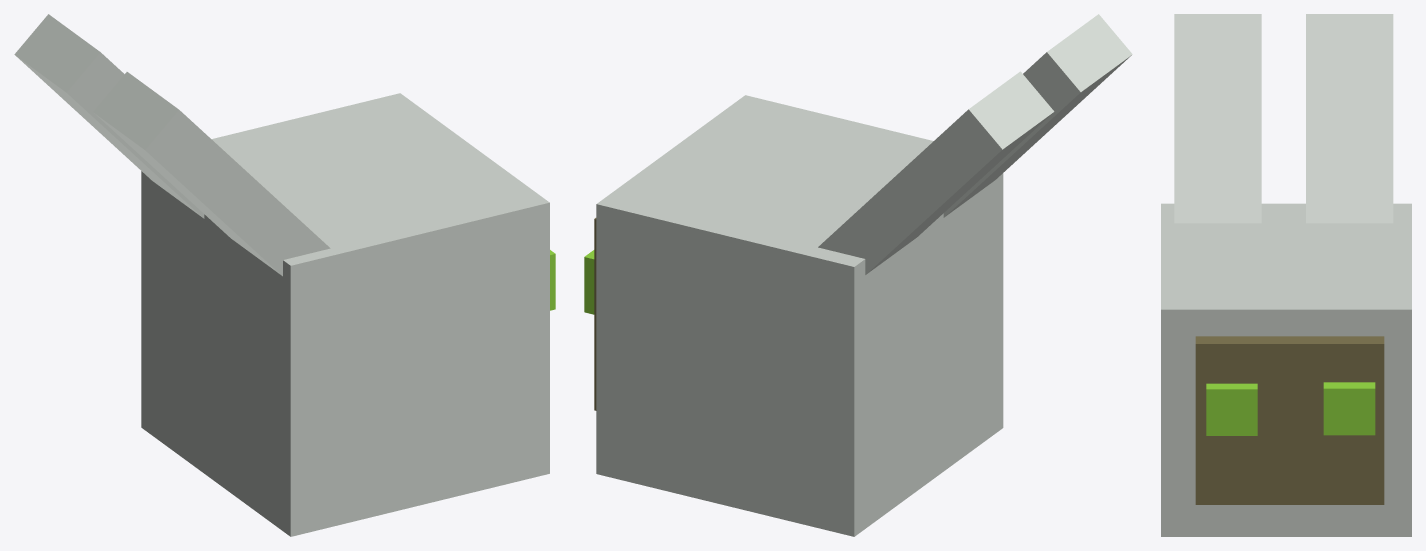
Rendered from Momo.fbx.
3 renders of one model, left to right at view 1: azimuth 30°, elevation 25°; view 2: azimuth 150°, elevation 25°; view 3: azimuth 270°, elevation 25°, orthographic. The views are drawn at different scales.
Parts seen in each view (by area): view 1: cabeca, orelah.001, orelah.002; view 2: cabeca, orelah.002, orelah.001, olho 1; view 3: cabeca, sW, orelah.001, orelah.002, olho 1, olho 2.
Boxes of the visible parts, bbox=[...] form: cabeca: bbox=[141, 93, 549, 536]; orelah.001: bbox=[93, 72, 330, 276]; orelah.002: bbox=[14, 14, 204, 218]; cabeca: bbox=[596, 95, 1003, 536]; orelah.002: bbox=[818, 71, 1054, 274]; orelah.001: bbox=[943, 14, 1132, 217]; olho 1: bbox=[584, 250, 594, 314]; cabeca: bbox=[1161, 203, 1411, 536]; sW: bbox=[1195, 336, 1384, 504]; orelah.001: bbox=[1174, 14, 1261, 223]; orelah.002: bbox=[1306, 14, 1393, 223]; olho 1: bbox=[1323, 382, 1375, 435]; olho 2: bbox=[1206, 383, 1257, 435].
Size of the model in its own units: 333 by 330 by 200.
